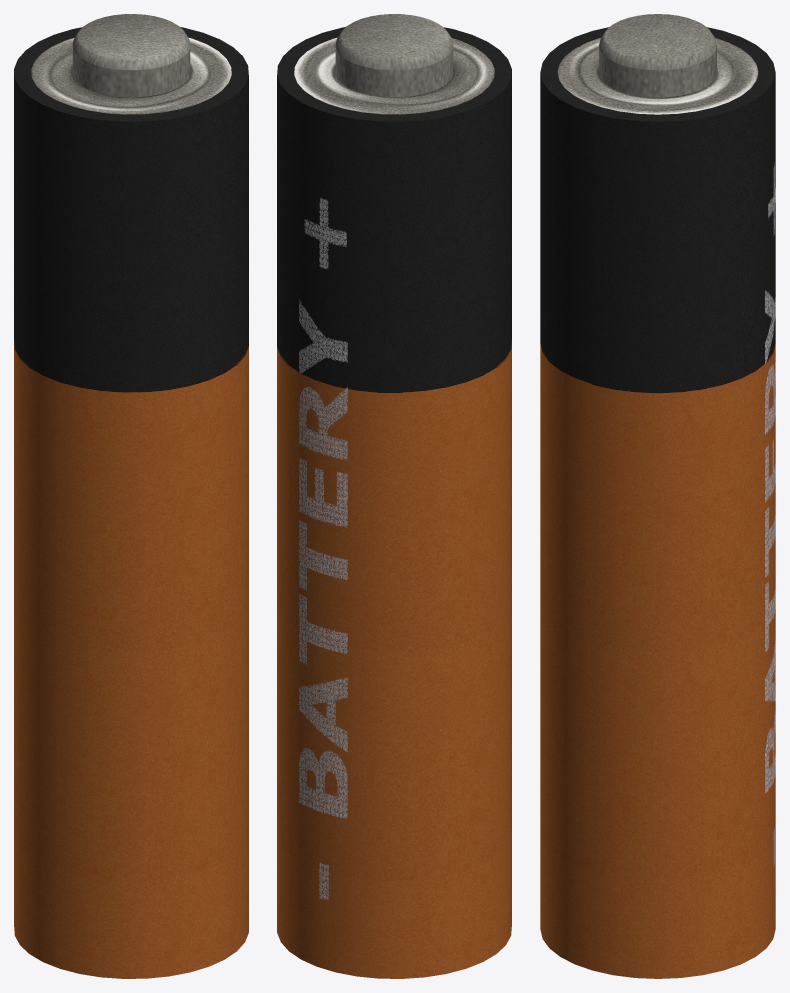
File: simple_battery (1).glb
The picture shows the model from 3 angles, left to right: view 1: azimuth 30°, elevation 25°; view 2: azimuth 150°, elevation 25°; view 3: azimuth 270°, elevation 25°; orthographic projection.
Parts seen in each view (by area): view 1: Battery; view 2: Battery; view 3: Battery.
Part boxes in pixels (x1=…): Battery: x1=14, y1=14, x2=248, y2=978; Battery: x1=277, y1=14, x2=511, y2=978; Battery: x1=540, y1=14, x2=775, y2=978.
Bounding box in the file's own units: 0.8072 × 3.38 × 0.8072.
Materials: 1 (1 with a texture image).
